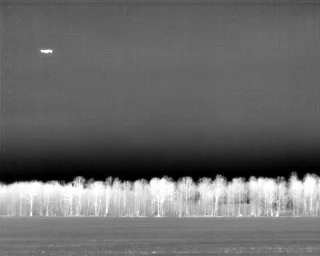DRONE: (37, 45, 56, 59)
